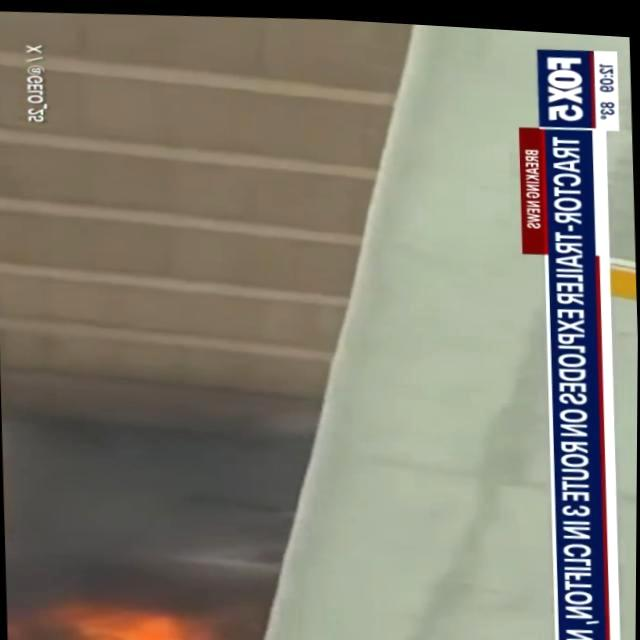fire: (58, 588, 248, 640)
